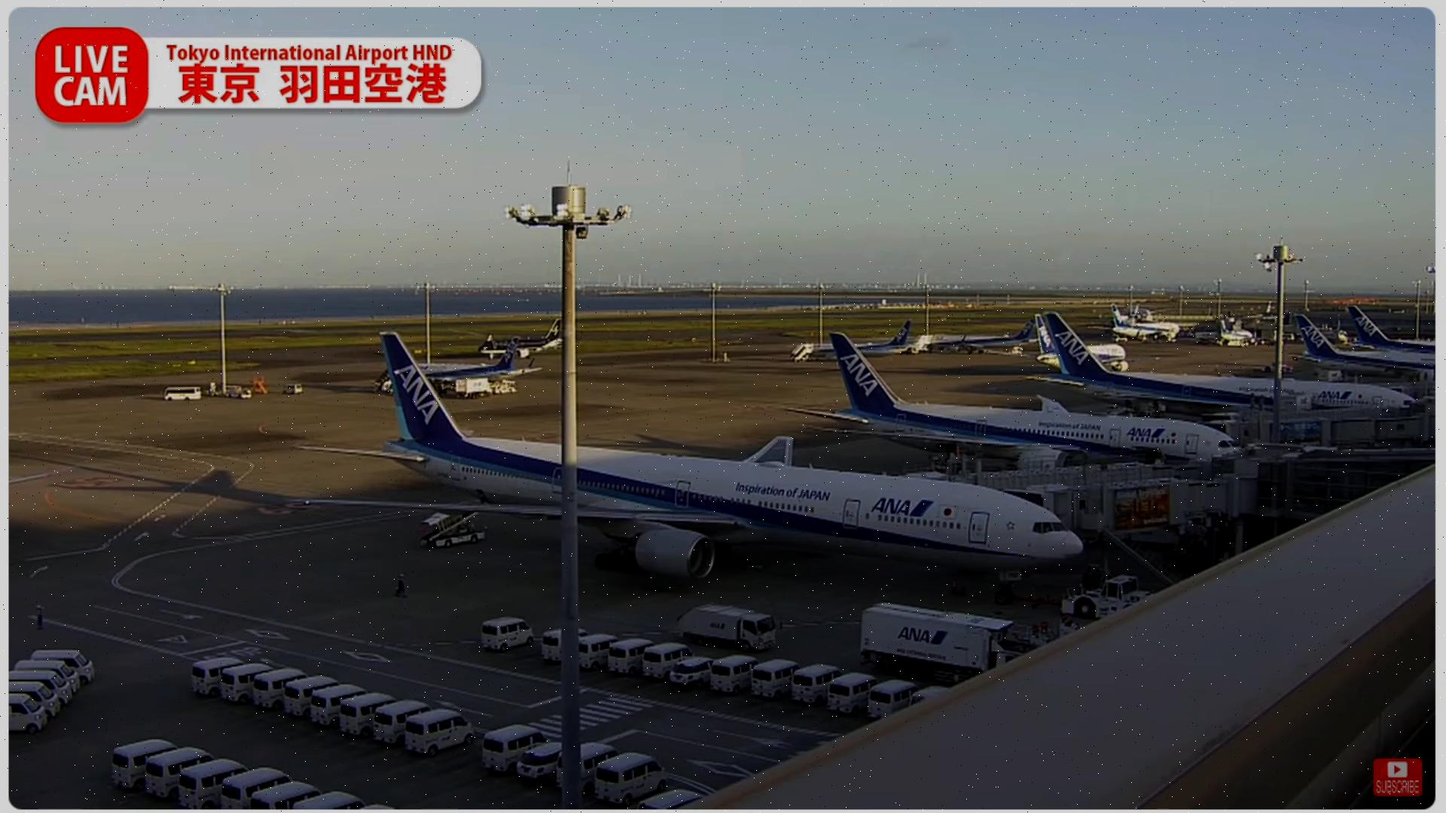APS: (1055, 573, 1156, 620)
Aerobridge: (990, 474, 1217, 523), (903, 458, 1204, 486)
Airplane: (290, 334, 1076, 584)
Baggage truck: (674, 599, 777, 654)
Catering: (858, 601, 1061, 687)
Skyloader: (421, 511, 480, 548)
Window: (1253, 443, 1435, 520)
